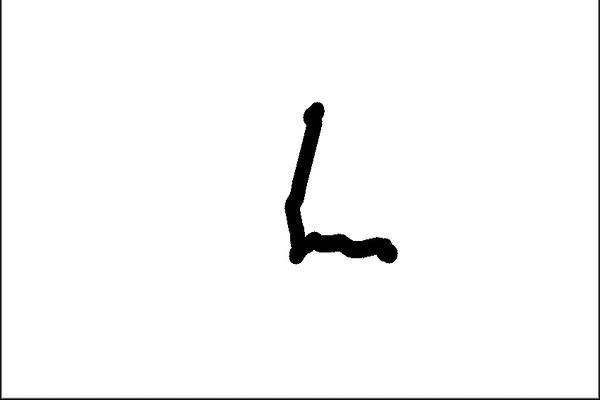L: (277, 95, 405, 272)
